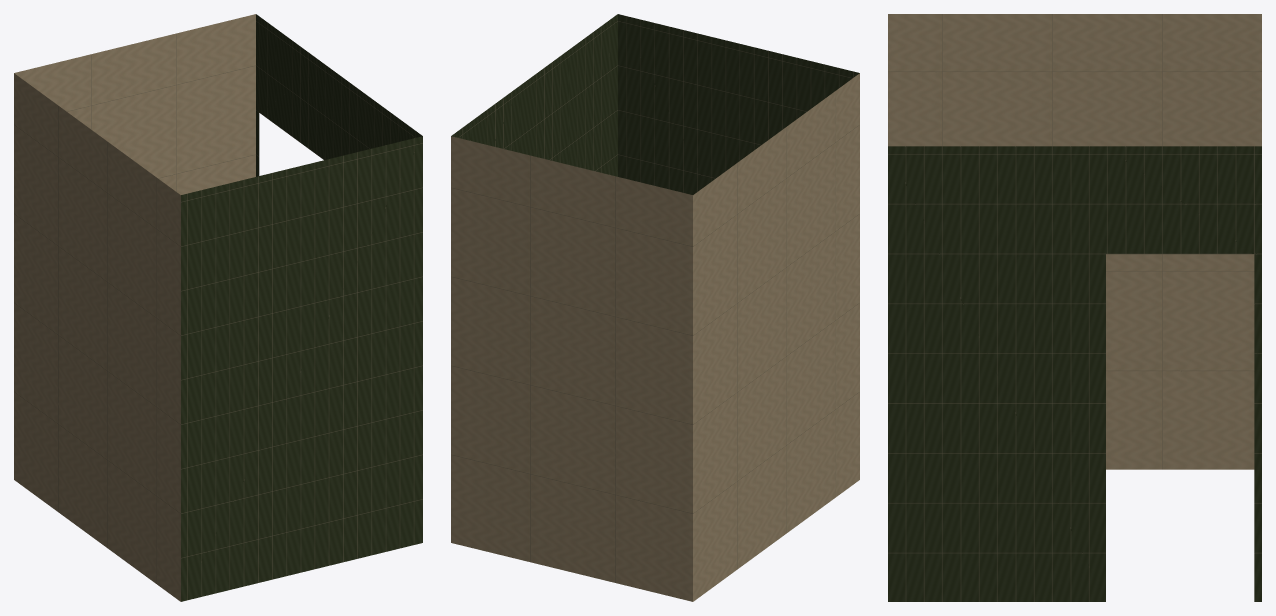
Rendered from r_toilet3-lining.glb.
3 renders of one model, left to right at view 1: azimuth 30°, elevation 25°; view 2: azimuth 150°, elevation 25°; view 3: azimuth 270°, elevation 25°, orthographic. The views are drawn at different scales.
Visible parts, largest first — view 1: bath-olive-kitkat wall, bath-warm-stone wall; view 2: bath-warm-stone wall, bath-olive-kitkat wall; view 3: bath-olive-kitkat wall, bath-warm-stone wall.
Part boxes in pixels (<box>): bath-olive-kitkat wall: <box>181,14,422,601</box>; bath-warm-stone wall: <box>14,14,255,601</box>; bath-warm-stone wall: <box>451,73,859,601</box>; bath-olive-kitkat wall: <box>451,14,859,194</box>; bath-olive-kitkat wall: <box>888,146,1261,601</box>; bath-warm-stone wall: <box>888,14,1261,469</box>.
Size of the model in its own units: 1.71 by 2.74 by 2.04.
2 materials, 2 textured.
